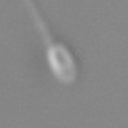abnormal: (26, 1, 54, 42)
